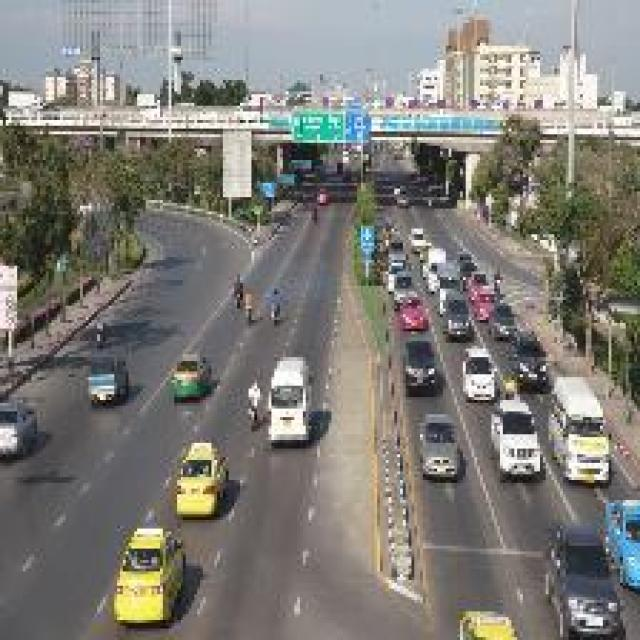other: (90, 524, 194, 623), (172, 442, 238, 516), (448, 599, 522, 634)
